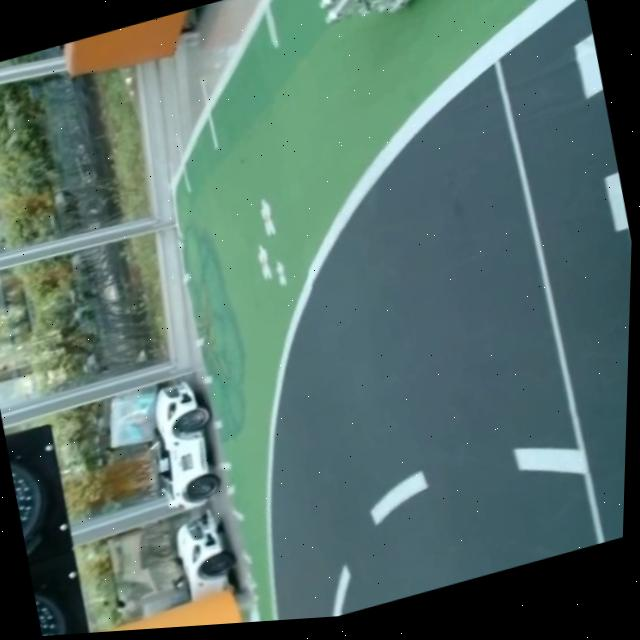traffic-light: (0, 410, 111, 639)
